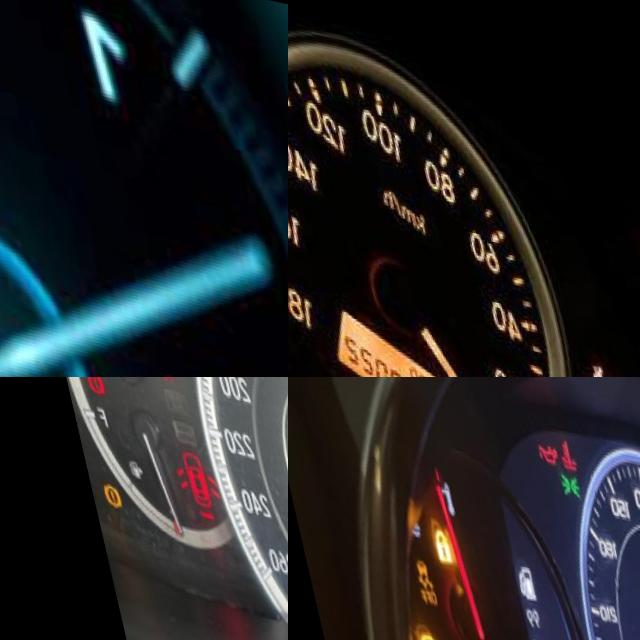High Engine Coolant Temperature: (551, 425, 573, 462)
